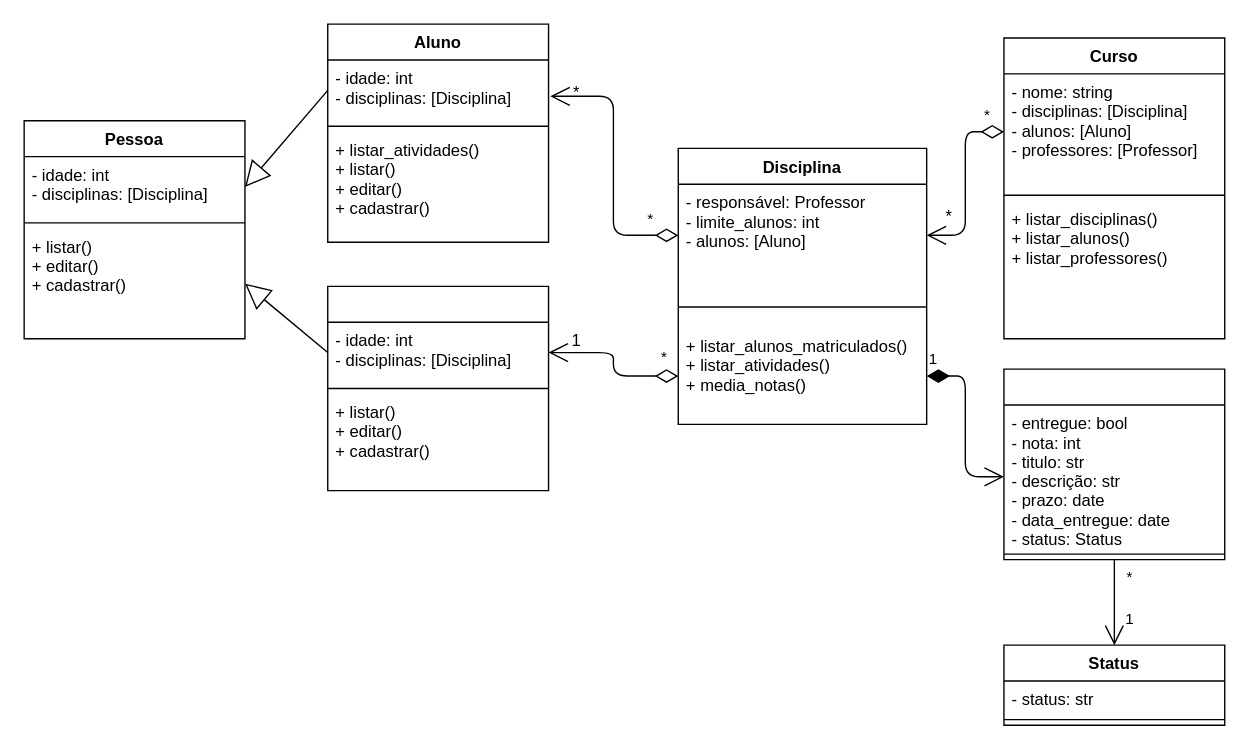
This 1249x749 diagram has some shape labels left out. The shapes that lost their labels are listed below. From the top down, each one's box as (x1, y1, x2, y2) in pixels, then its label:
(326, 285, 549, 491): Professor
(1003, 368, 1225, 560): Atividade
